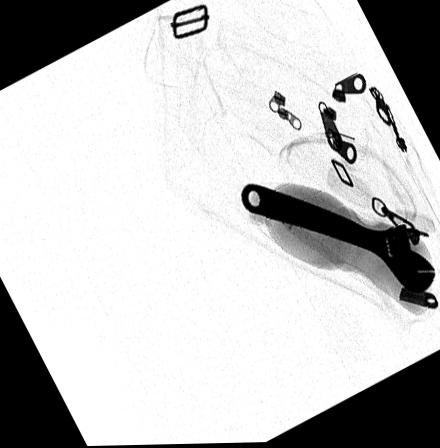Wrench: (238, 183, 435, 294)
